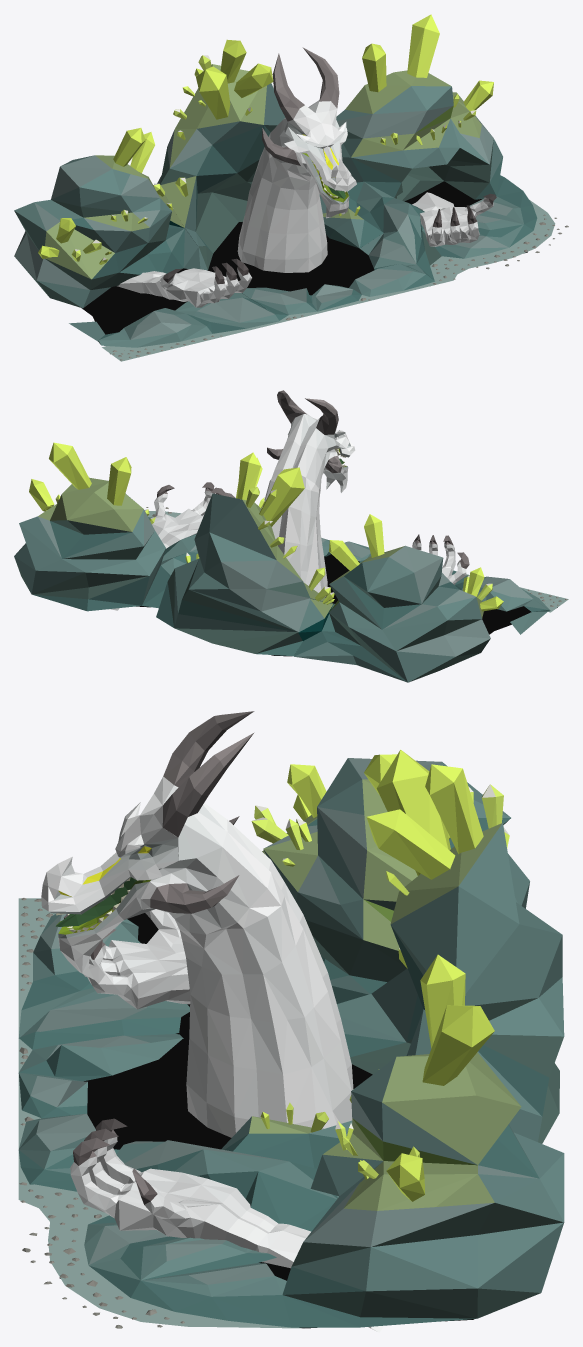
File: olm.glb
3 views of the same model, one above another, from view 1: azimuth 30°, elevation 25°; view 2: azimuth 150°, elevation 25°; view 3: azimuth 270°, elevation 25° (orthographic). The views are drawn at different scales.
Visible parts, largest first — view 1: [Imported] Left_Top, [Imported] Right_Top, [Imported] Head, [Imported] Head_Top, [Imported] Black_Floor, [Imported] Head_Bot, [Imported] Right_Rocks, [Imported] Head_TopGreen, [Imported] Left_TopGreen, [Imported] Right_TopGreen, [Imported] Left_Floor, [Imported] RightHand (+3 smaller); view 2: [Imported] Right_Top, [Imported] Head_Top, [Imported] Left_Top, [Imported] Head, [Imported] Head_TopGreen, [Imported] Left_TopGreen, [Imported] Right_TopGreen, [Imported] Right_Rocks, [Imported] Black_Floor, [Imported] LeftHand, [Imported] Head_Bot, [Imported] Right_Floor; view 3: [Imported] Left_Top, [Imported] Head, [Imported] Head_Top, [Imported] Right_Top, [Imported] Head_Bot, [Imported] Head_TopGreen, [Imported] Black_Floor, [Imported] Right_Rocks, [Imported] Left_TopGreen, [Imported] Left_Floor, [Imported] LeftHand, [Imported] RightHand (+6 smaller).
Boxes of the visible parts, box(x1,y1,x2,y2) form: [Imported] Left_Top: box(198, 70, 537, 280); [Imported] Right_Top: box(14, 155, 207, 308); [Imported] Head: box(237, 47, 356, 272); [Imported] Head_Top: box(157, 64, 383, 253); [Imported] Black_Floor: box(81, 181, 527, 354); [Imported] Head_Bot: box(242, 231, 434, 320); [Imported] Right_Rocks: box(69, 293, 279, 347); [Imported] Head_TopGreen: box(173, 39, 360, 215); [Imported] Left_TopGreen: box(362, 14, 493, 145); [Imported] Right_TopGreen: box(38, 128, 172, 264); [Imported] Left_Floor: box(430, 200, 568, 284); [Imported] RightHand: box(155, 268, 227, 307); [Imported] Right_Top: box(294, 545, 490, 682); [Imported] Head_Top: box(156, 493, 334, 656); [Imported] Left_Top: box(14, 477, 197, 611); [Imported] Head: box(263, 390, 355, 597); [Imported] Head_TopGreen: box(185, 452, 325, 590); [Imported] Left_TopGreen: box(29, 442, 155, 523); [Imported] Right_TopGreen: box(315, 514, 503, 611); [Imported] Right_Rocks: box(452, 570, 550, 634); [Imported] Black_Floor: box(136, 554, 557, 656); [Imported] LeftHand: box(152, 508, 203, 546); [Imported] Head_Bot: box(321, 538, 371, 562); [Imported] Right_Floor: box(466, 574, 568, 612); [Imported] Left_Top: box(31, 1052, 564, 1327); [Imported] Head: box(41, 711, 353, 1137); [Imported] Head_Top: box(221, 823, 564, 1168); [Imported] Right_Top: box(262, 758, 529, 1003); [Imported] Head_Bot: box(18, 1031, 183, 1184); [Imported] Head_TopGreen: box(260, 749, 509, 1132); [Imported] Black_Floor: box(59, 913, 474, 1328); [Imported] Right_Rocks: box(18, 913, 189, 1038); [Imported] Left_TopGreen: box(335, 954, 494, 1201); [Imported] Left_Floor: box(18, 1185, 301, 1328); [Imported] LeftHand: box(114, 1168, 250, 1239); [Imported] RightHand: box(108, 929, 190, 1009).
Size of the model in its own units: 4.25 by 2.08 by 2.25.
